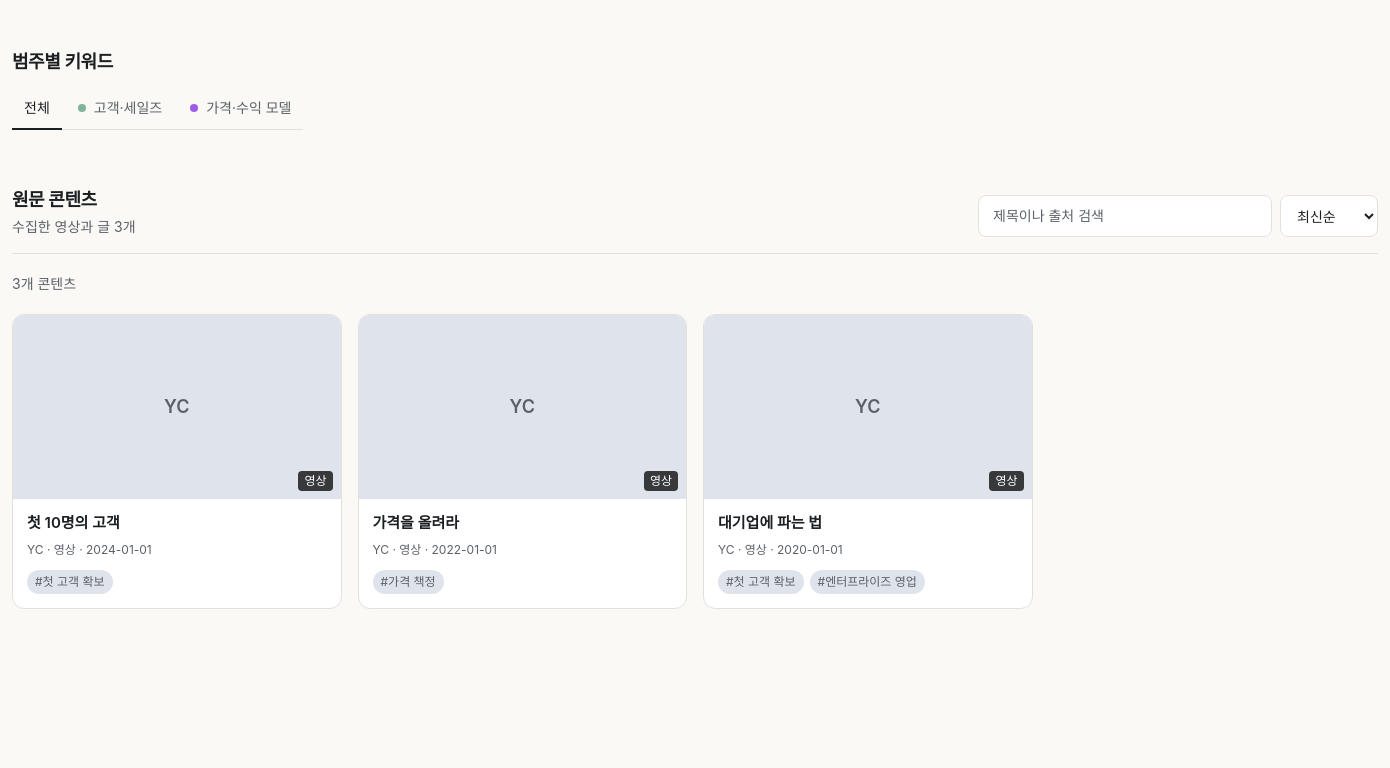
Test: filters contents by category tab and then by keyword chip
This screenshot has width=1390, height=768.
expect the text "3개 콘텐츠" is shown: met, box x1=12 y1=275 x2=76 y2=292
Click the tab "고객·세일즈" at [120, 108], box x1=66 y1=87 x2=174 y2=130
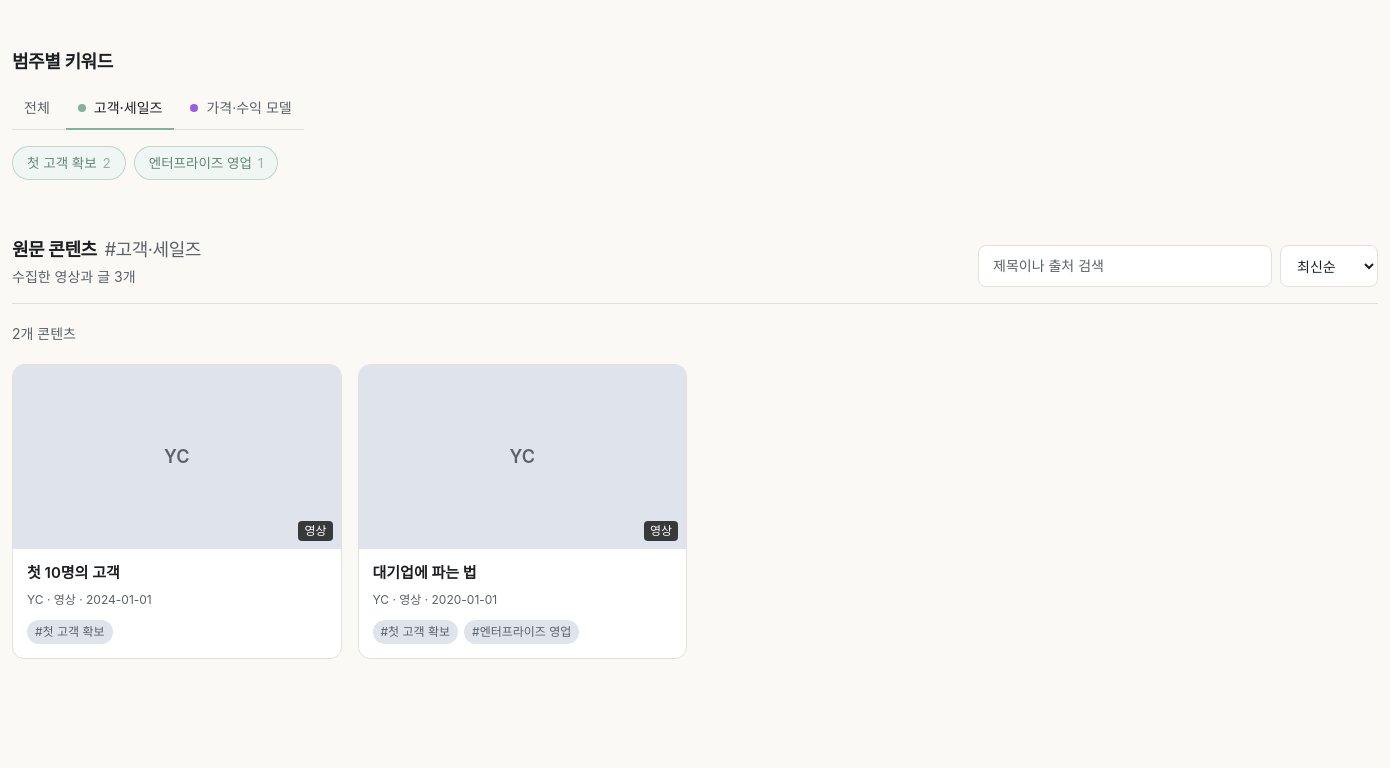
expect the text "2개 콘텐츠" is shown: met, box x1=12 y1=325 x2=76 y2=342
Click the button "엔터프라이즈 영업 1" at [206, 163], box x1=134 y1=146 x2=278 y2=180
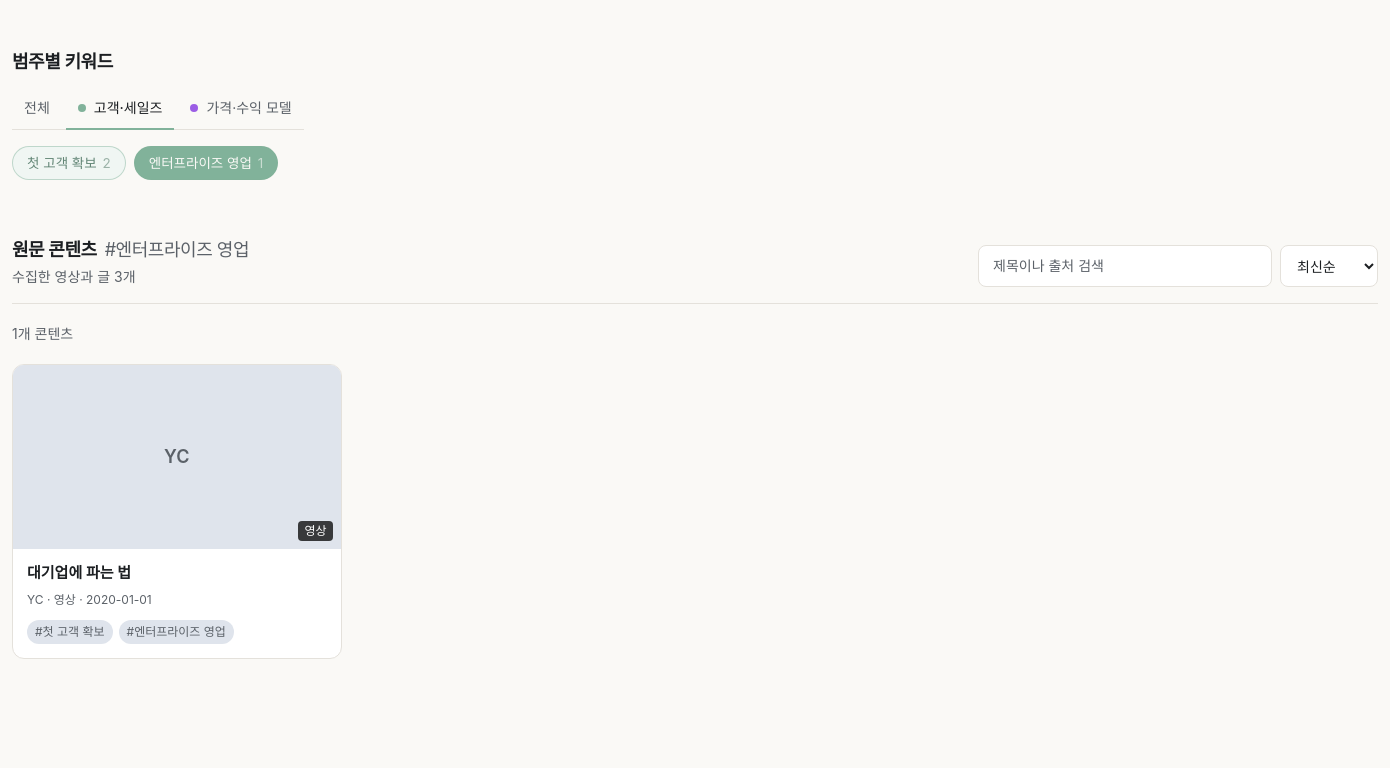
Click the button "엔터프라이즈 영업 1" at [206, 163], box x1=134 y1=146 x2=278 y2=180
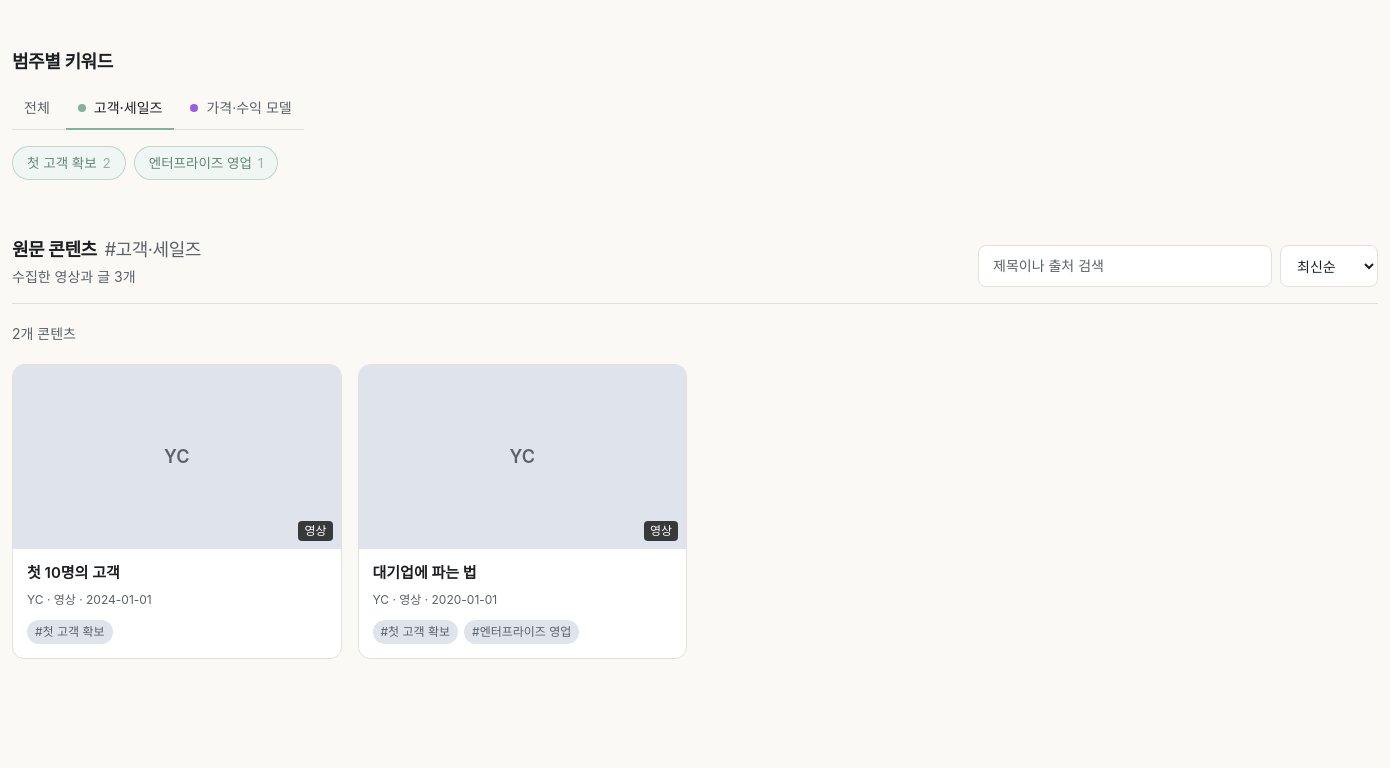
expect the text "2개 콘텐츠" is shown: met, box x1=12 y1=325 x2=76 y2=342
Click the tab "전체" at [37, 108], box x1=12 y1=87 x2=62 y2=130
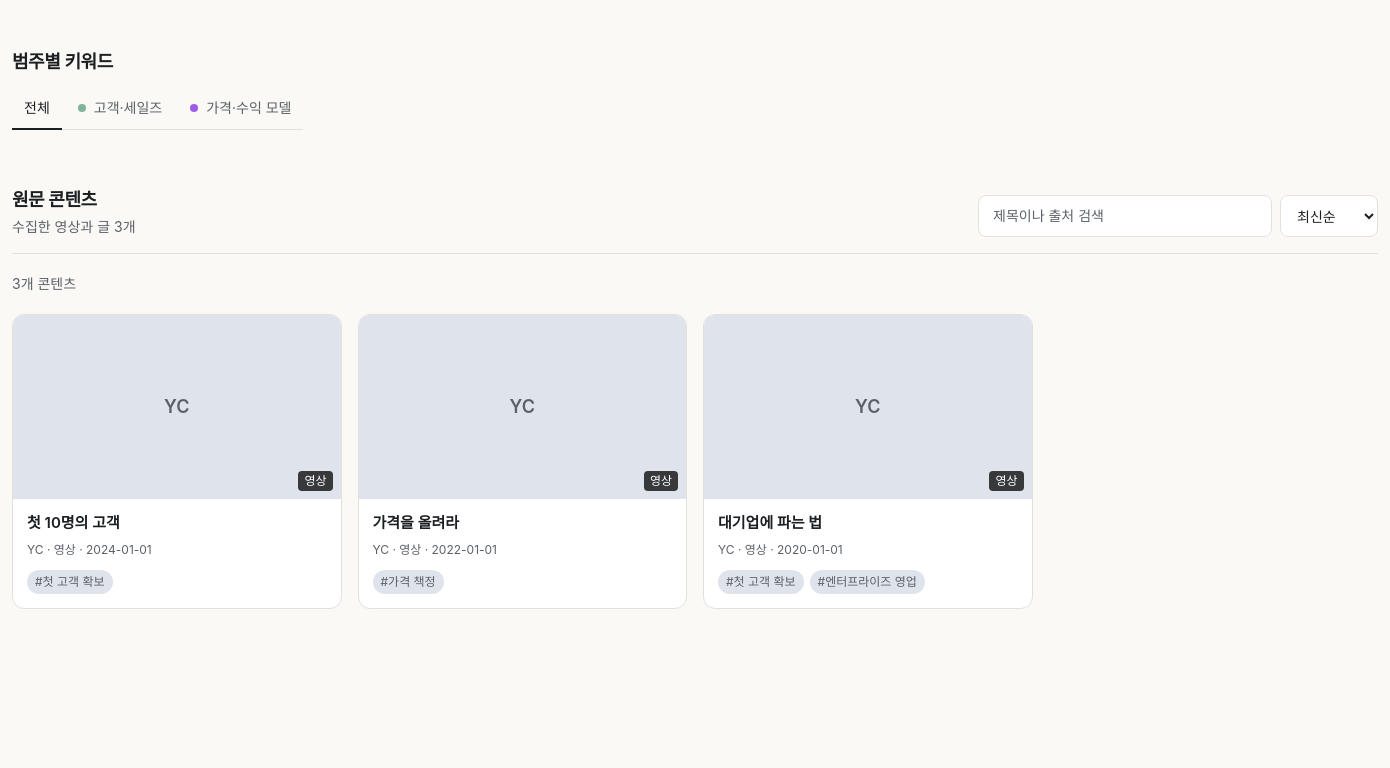
expect the text "3개 콘텐츠" is shown: met, box x1=12 y1=275 x2=76 y2=292
